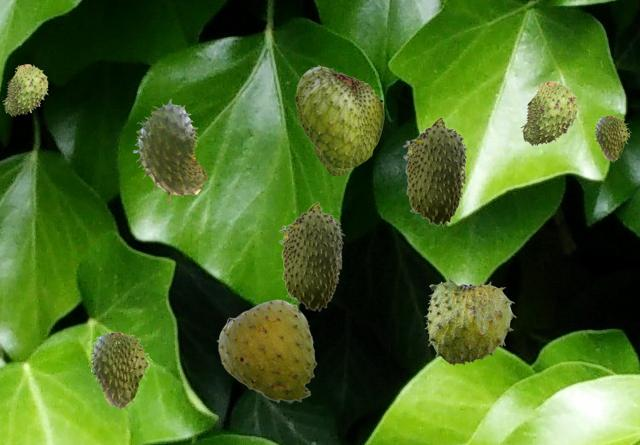guyabano: (216, 299, 316, 403), (295, 64, 383, 168), (424, 277, 515, 364), (133, 99, 207, 203), (279, 201, 344, 310), (403, 116, 468, 225), (88, 331, 151, 409), (520, 81, 577, 145), (2, 64, 47, 115), (593, 115, 630, 161), (313, 145, 352, 175)
